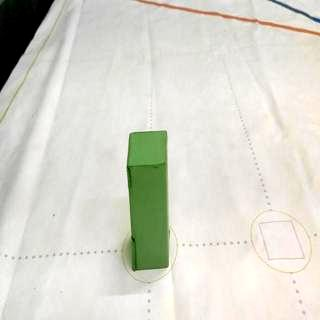greenbox: (127, 129, 171, 270)
